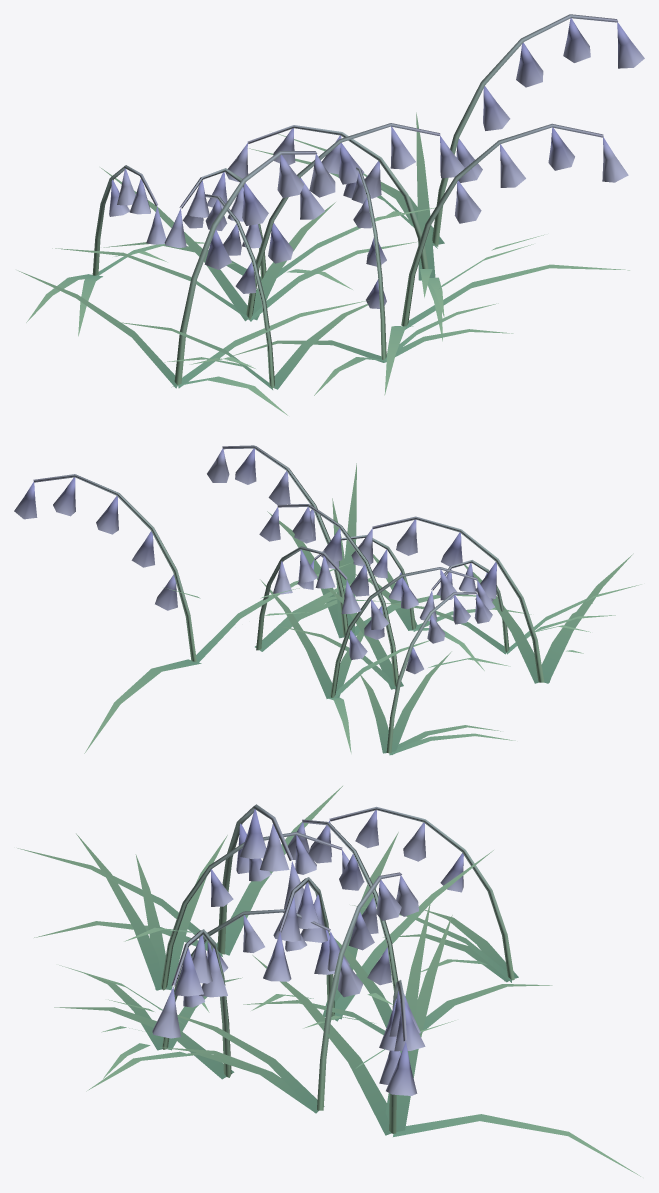
Rendered from bluebell_patch_b.glb.
The picture shows the model from 3 angles, top to bottom: view 1: azimuth 30°, elevation 25°; view 2: azimuth 150°, elevation 25°; view 3: azimuth 270°, elevation 25°; orthographic projection. The views are drawn at different scales.
Parts seen in each view (by area): view 1: soft; view 2: soft; view 3: soft.
Part boxes in pixels (left/top/right/bottom): soft: left=17, top=14, right=644, bottom=415; soft: left=14, top=445, right=641, bottom=755; soft: left=17, top=786, right=640, bottom=1176.
Size of the model in its own units: 1.2 by 0.3997 by 0.9198.
